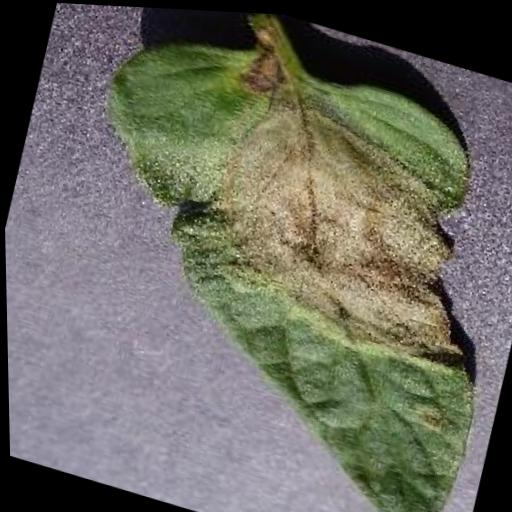Late Blight: (16, 1, 512, 512)
